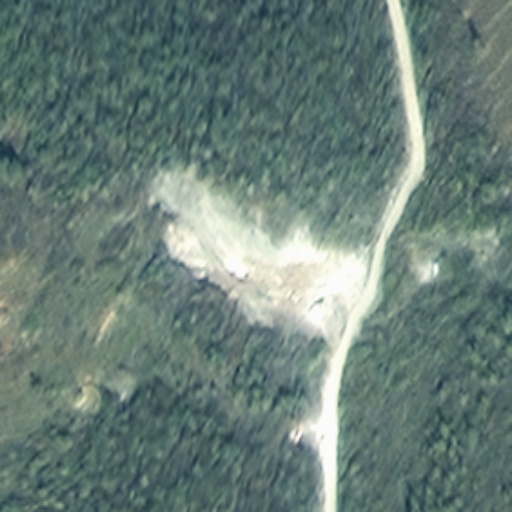landslide: (151, 167, 360, 323)
